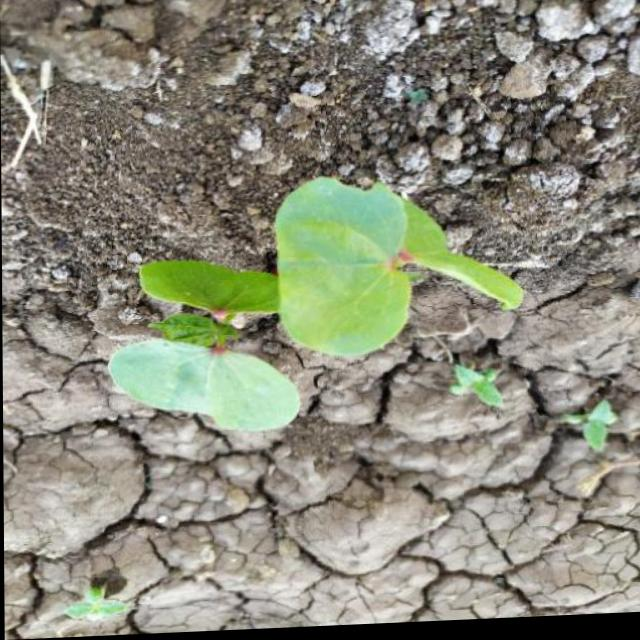weed: (87, 173, 528, 449)
